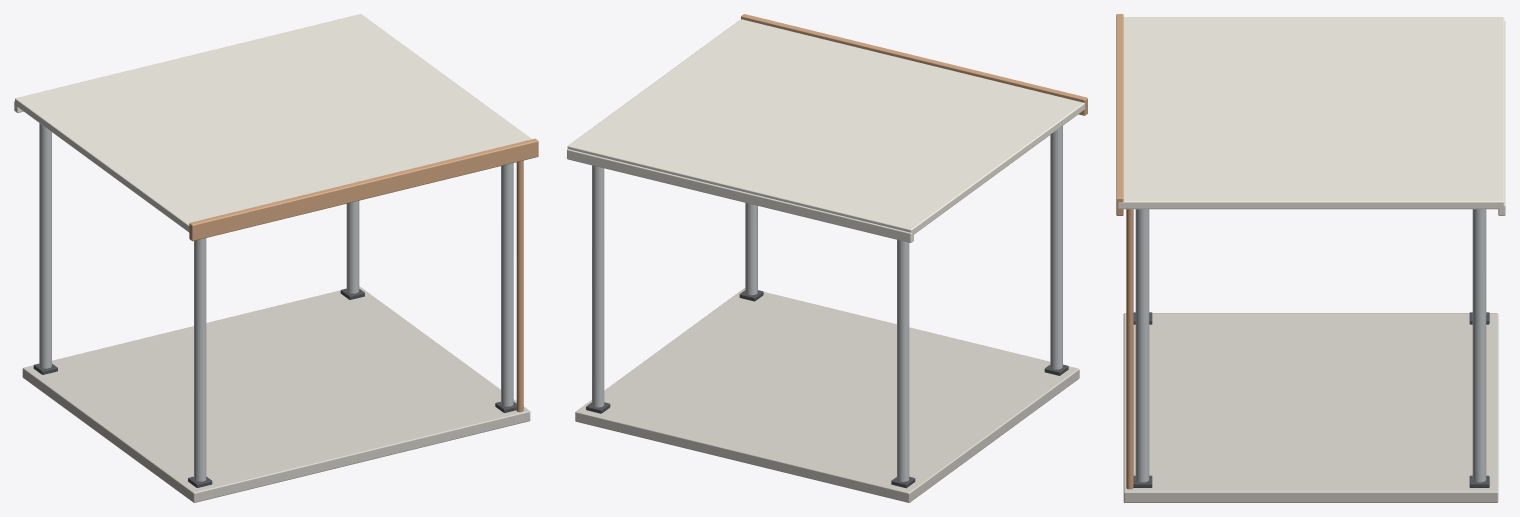
The model's file is chocolate-making-and-confectionery-cocoa-receiving-can-47f3b02e__39141.glb.
3 renders of one model, left to right at view 1: azimuth 30°, elevation 25°; view 2: azimuth 150°, elevation 25°; view 3: azimuth 270°, elevation 25°, orthographic. The views are drawn at different scales.
Visible parts, largest first — view 1: cocoa-receiving-canopy; view 2: cocoa-receiving-canopy; view 3: cocoa-receiving-canopy.
Part boxes in pixels (box(x1,y1,x2,y2)): cocoa-receiving-canopy: box(14, 14, 538, 502); cocoa-receiving-canopy: box(567, 14, 1087, 502); cocoa-receiving-canopy: box(1116, 14, 1505, 502).
Bounding box in the file's own units: 3.5 × 2.72 × 3.12.
